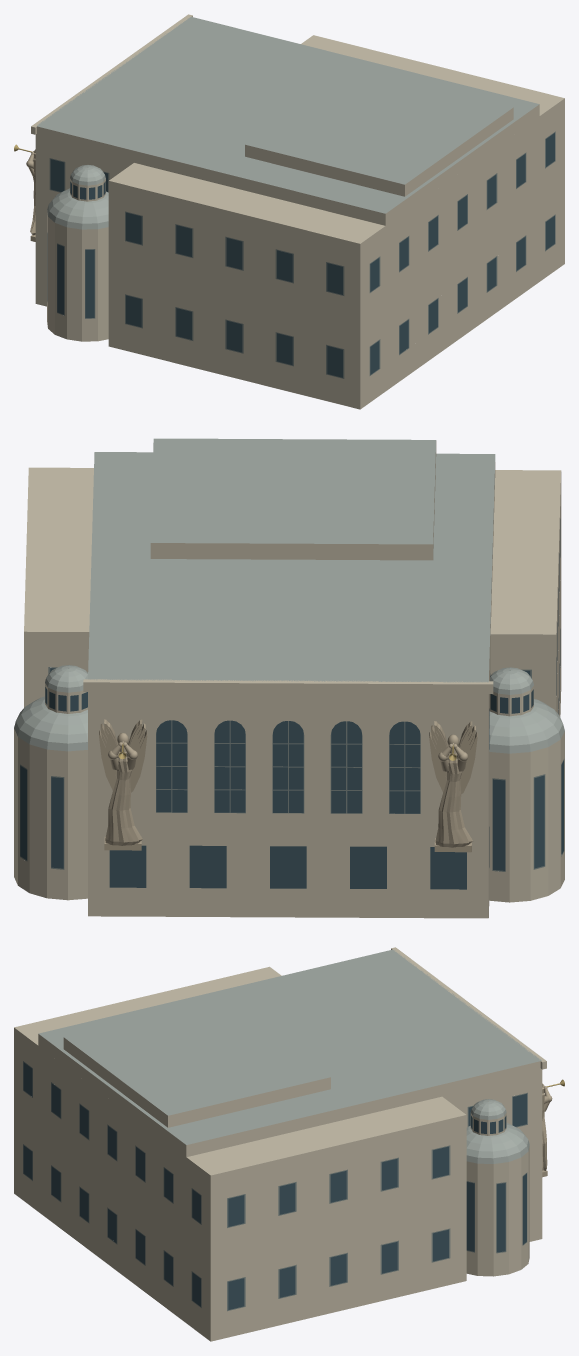
The model's file is bass-performance-hall-far.glb.
The picture shows the model from 3 angles, top to bottom: view 1: azimuth 30°, elevation 25°; view 2: azimuth 150°, elevation 25°; view 3: azimuth 270°, elevation 25°; orthographic projection. The views are drawn at different scales.
Parts seen in each view (by area): view 1: bass-performance-hall-0-stone, bass-performance-hall-0-roof, bass-performance-hall-0-glass, bass-performance-hall-0-metal; view 2: bass-performance-hall-0-stone, bass-performance-hall-0-roof, bass-performance-hall-0-glass, bass-performance-hall-0-sculpture, bass-performance-hall-0-metal; view 3: bass-performance-hall-0-stone, bass-performance-hall-0-roof, bass-performance-hall-0-glass, bass-performance-hall-0-metal, bass-performance-hall-0-sculpture.
Boxes of the visible parts, x1,y1,x2,y2 form: bass-performance-hall-0-stone: (31,14,564,409); bass-performance-hall-0-roof: (37,16,539,229); bass-performance-hall-0-glass: (47,133,554,377); bass-performance-hall-0-metal: (47,131,555,378); bass-performance-hall-0-stone: (14,441,564,918); bass-performance-hall-0-roof: (14,438,564,753); bass-performance-hall-0-glass: (20,519,563,889); bass-performance-hall-0-sculpture: (99,719,477,852); bass-performance-hall-0-metal: (20,518,564,871); bass-performance-hall-0-stone: (14,947,546,1341); bass-performance-hall-0-roof: (39,949,541,1163); bass-performance-hall-0-glass: (23,1062,526,1309); bass-performance-hall-0-metal: (23,1061,527,1311); bass-performance-hall-0-sculpture: (542,1083,552,1177).
Bounding box in the file's own units: 79.06 × 31.5 × 82.65.
